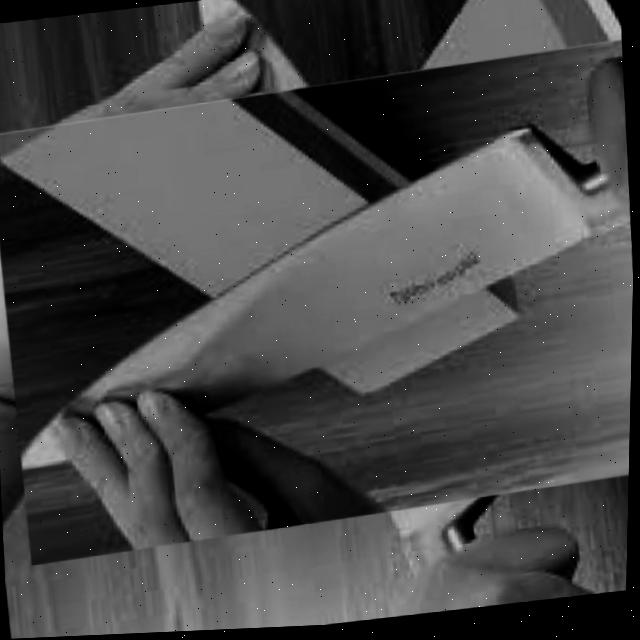knife: (5, 112, 638, 469)
